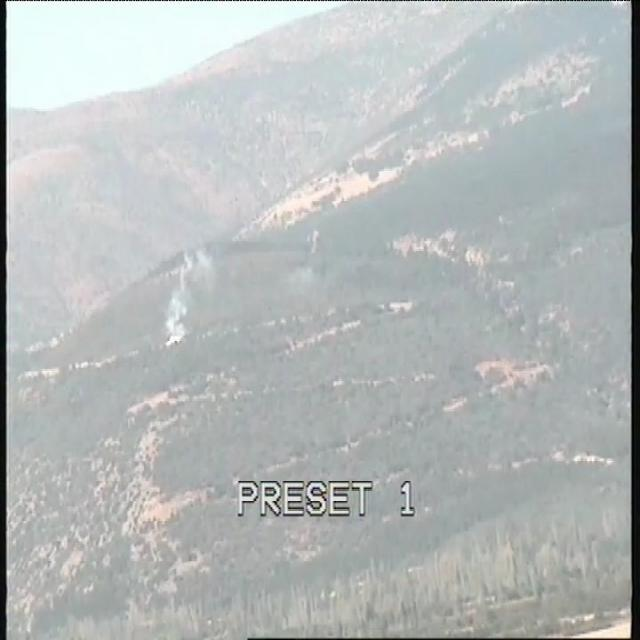smoke: (163, 245, 221, 337)
